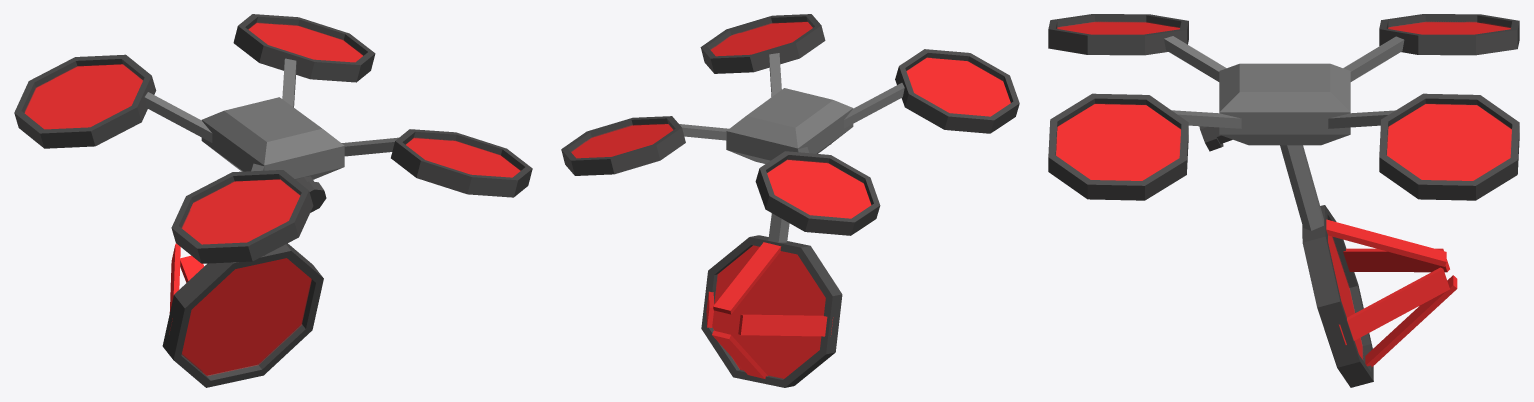
File: drone.fbx
3 views of the same model, side by side, from view 1: azimuth 30°, elevation 25°; view 2: azimuth 150°, elevation 25°; view 3: azimuth 270°, elevation 25° (orthographic). The views are drawn at different scales.
Visible parts, largest first — view 1: pCylinder13, pCylinder12, pCylinder11, pCube1, pCylinder9, pCylinder10, pCube4, pCube2, pCube3, pCylinder8, pCube7; view 2: pCylinder13, pCylinder11, pCylinder12, pCube1, pCylinder10, pCylinder9, pCube7, pCube6, pCube5, pCube9, pCube3, pCylinder3 (+1 smaller); view 3: pCylinder9, pCylinder10, pCube1, pCylinder13, pCylinder11, pCylinder12, pCube8, pCylinder3, pCube6, pCube7, pCube9, pCube5 (+4 smaller).
Boxes of the visible parts, left/top/right/bottom form: pCylinder13: left=162, top=243, right=323, bottom=387; pCylinder12: left=171, top=170, right=313, bottom=263; pCylinder11: left=14, top=54, right=156, bottom=148; pCube1: left=201, top=97, right=344, bottom=179; pCylinder9: left=391, top=129, right=532, bottom=197; pCylinder10: left=233, top=14, right=375, bottom=82; pCube4: left=144, top=92, right=212, bottom=142; pCube2: left=341, top=137, right=398, bottom=156; pCube3: left=282, top=58, right=296, bottom=107; pCylinder8: left=296, top=176, right=326, bottom=212; pCube7: left=169, top=243, right=180, bottom=334; pCylinder13: left=701, top=235, right=842, bottom=387; pCylinder11: left=755, top=151, right=880, bottom=235; pCylinder12: left=895, top=49, right=1019, bottom=133; pCube1: left=726, top=88, right=853, bottom=163; pCylinder10: left=561, top=116, right=685, bottom=175; pCylinder9: left=700, top=14, right=825, bottom=73; pCube7: left=738, top=314, right=833, bottom=336; pCube6: left=713, top=242, right=781, bottom=314; pCube5: left=844, top=83, right=904, bottom=128; pCube9: left=712, top=330, right=767, bottom=378; pCube3: left=679, top=124, right=728, bottom=140; pCylinder3: left=768, top=213, right=789, bottom=242; pCylinder9: left=1048, top=93, right=1188, bottom=200; pCylinder10: left=1379, top=93, right=1519, bottom=200; pCube1: left=1219, top=63, right=1350, bottom=145; pCylinder13: left=1302, top=205, right=1373, bottom=387; pCylinder11: left=1379, top=14, right=1519, bottom=55; pCylinder12: left=1048, top=14, right=1188, bottom=55; pCube8: left=1339, top=267, right=1449, bottom=344; pCylinder3: left=1280, top=145, right=1323, bottom=230; pCube6: left=1326, top=219, right=1446, bottom=266; pCube7: left=1343, top=248, right=1449, bottom=272; pCube9: left=1365, top=275, right=1457, bottom=367; pCube5: left=1164, top=36, right=1226, bottom=81.
Bounding box in the file's own units: 4.15 × 3.51 × 4.81.
